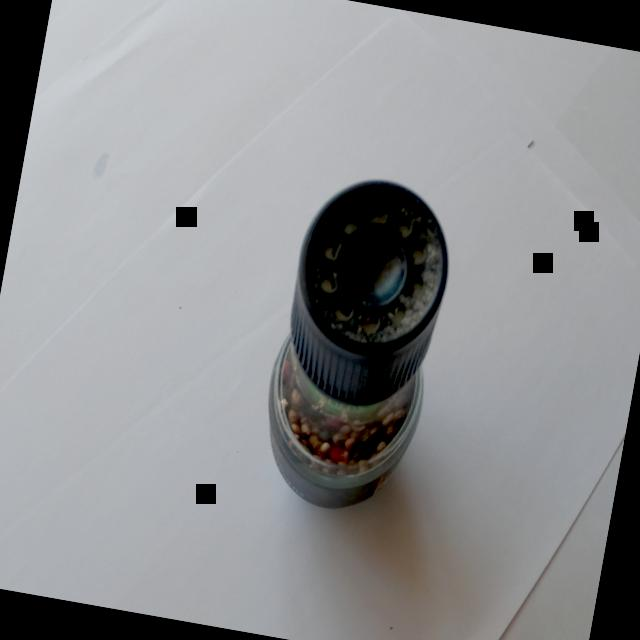Blackpepper: (236, 138, 476, 531)
